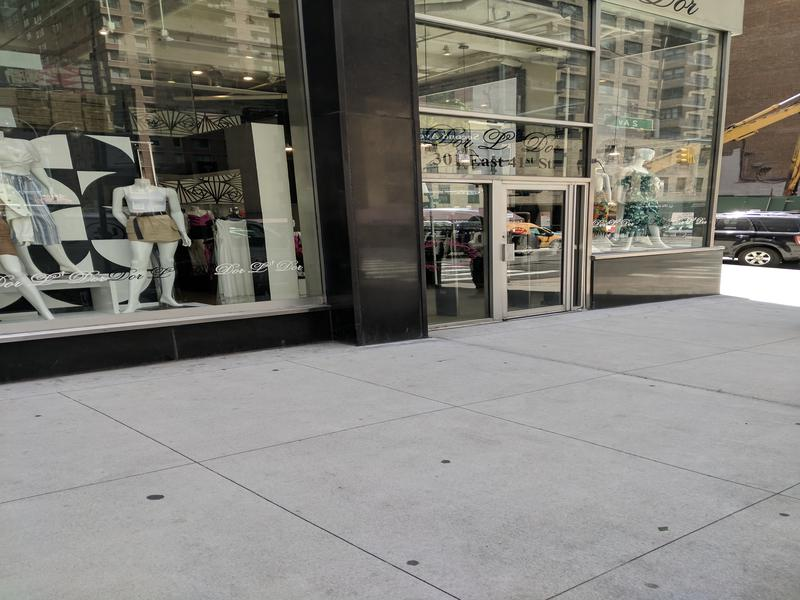door: (491, 179, 577, 321)
